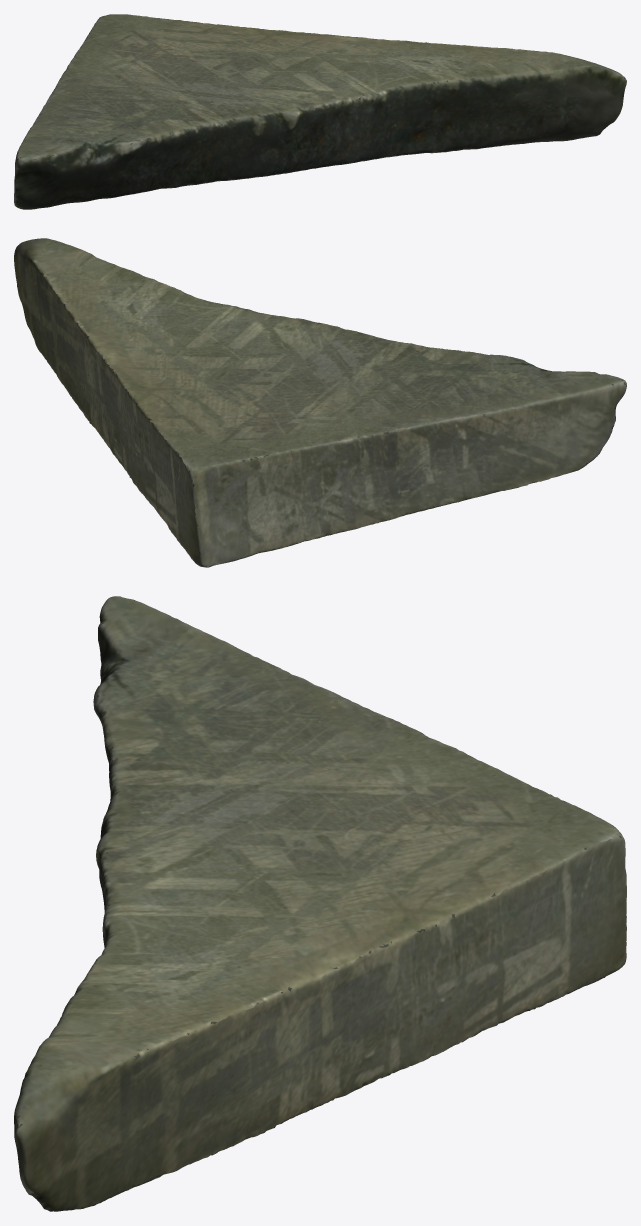
Rendered from asteroid_rock_2.glb.
The picture shows the model from 3 angles, top to bottom: view 1: azimuth 30°, elevation 25°; view 2: azimuth 150°, elevation 25°; view 3: azimuth 270°, elevation 25°; orthographic projection. The views are drawn at different scales.
Visible parts, largest first — view 1: defaultMaterial; view 2: defaultMaterial; view 3: defaultMaterial.
Part boxes in pixels (<box>): defaultMaterial: <box>14,14,626,209</box>; defaultMaterial: <box>14,238,626,567</box>; defaultMaterial: <box>14,596,626,1211</box>.
Bounding box in the file's own units: 0.1847 × 0.0343 × 0.102.
Materials: 1 (1 with a texture image).
